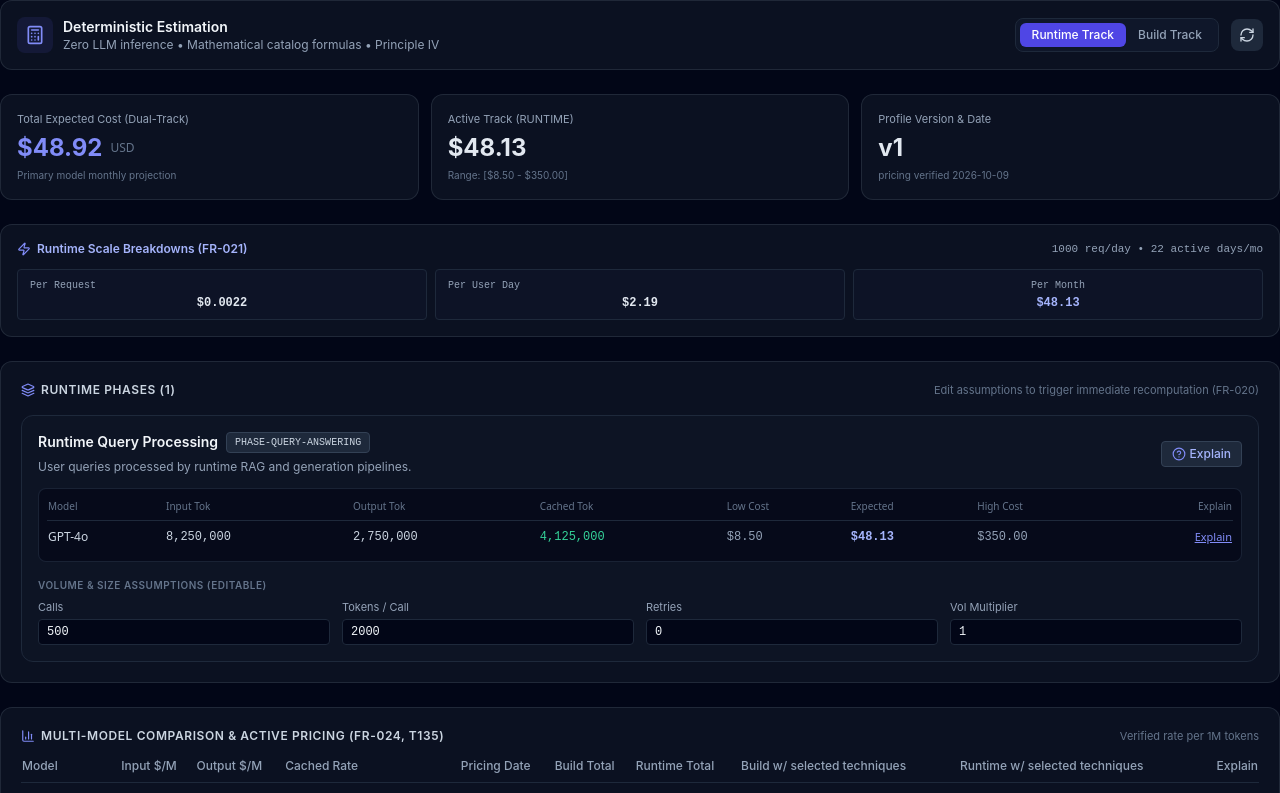
Test: Estimate View Component (T073, T074, T134, T135, US3, FR-017-FR-024) › renders BUILD and RUNTIME track buttons and switches tracks
This screenshot has width=1280, height=793.
Expected: the button "Runtime Track" is shown, top-left (1020, 23), bottom-right (1126, 47)
Expected: the text "Runtime Query Processing" is shown, top-left (38, 432), bottom-right (218, 452)
// Switch to Build Track
Click the button "Build Track" at (1170, 35), box top-left (1126, 23), bottom-right (1214, 47)
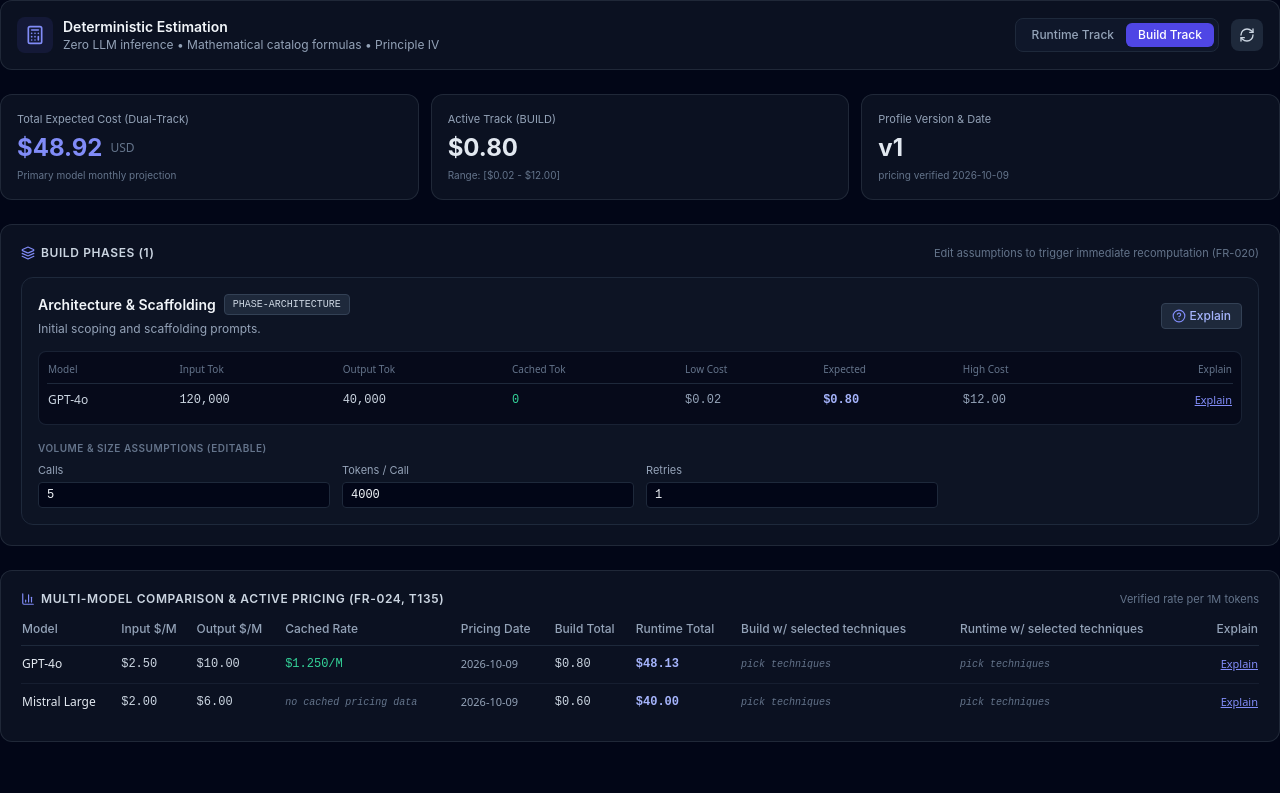
Now the text "Architecture & Scaffolding" is shown, box top-left (38, 294), bottom-right (216, 314)
